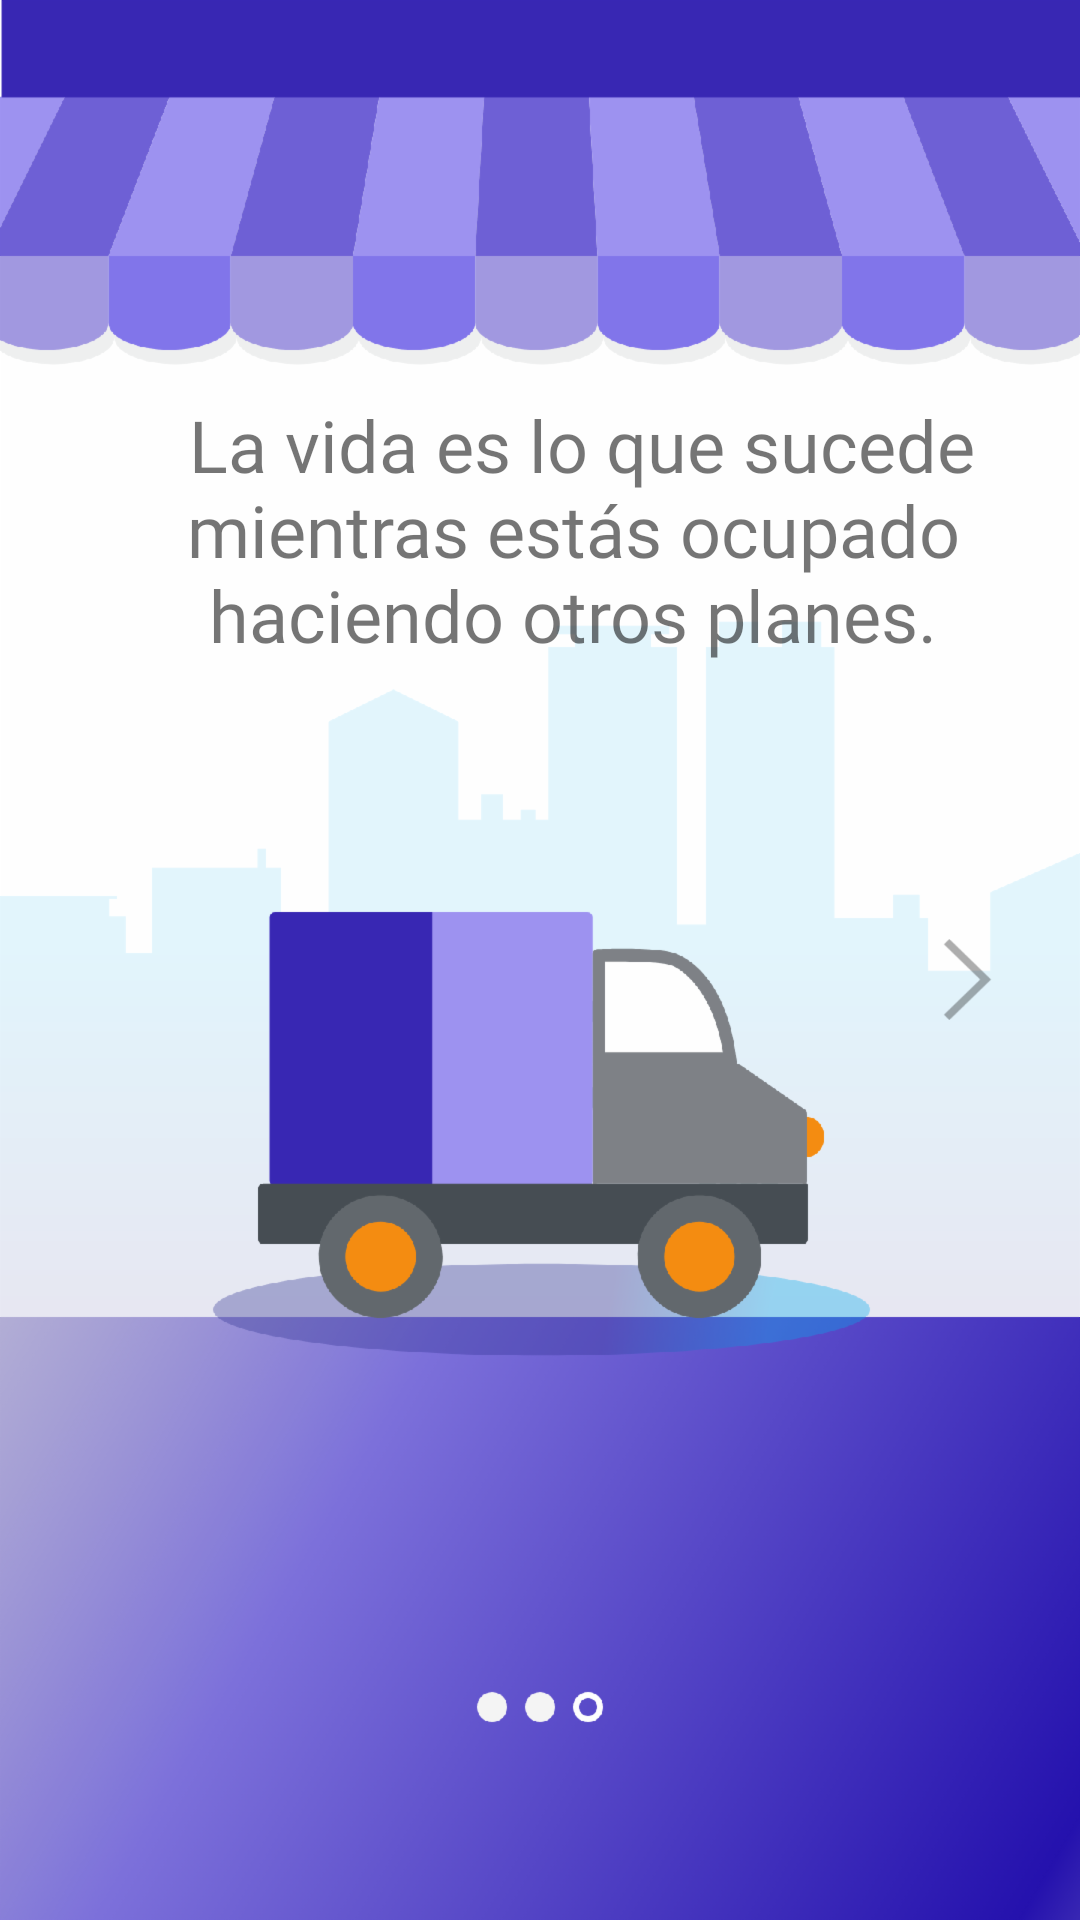

Named icons in this screenshot (1080px×1920px) and their bounding boxes, (x1, y1, x2, y2):
nextpage: (929, 939, 991, 1020)
